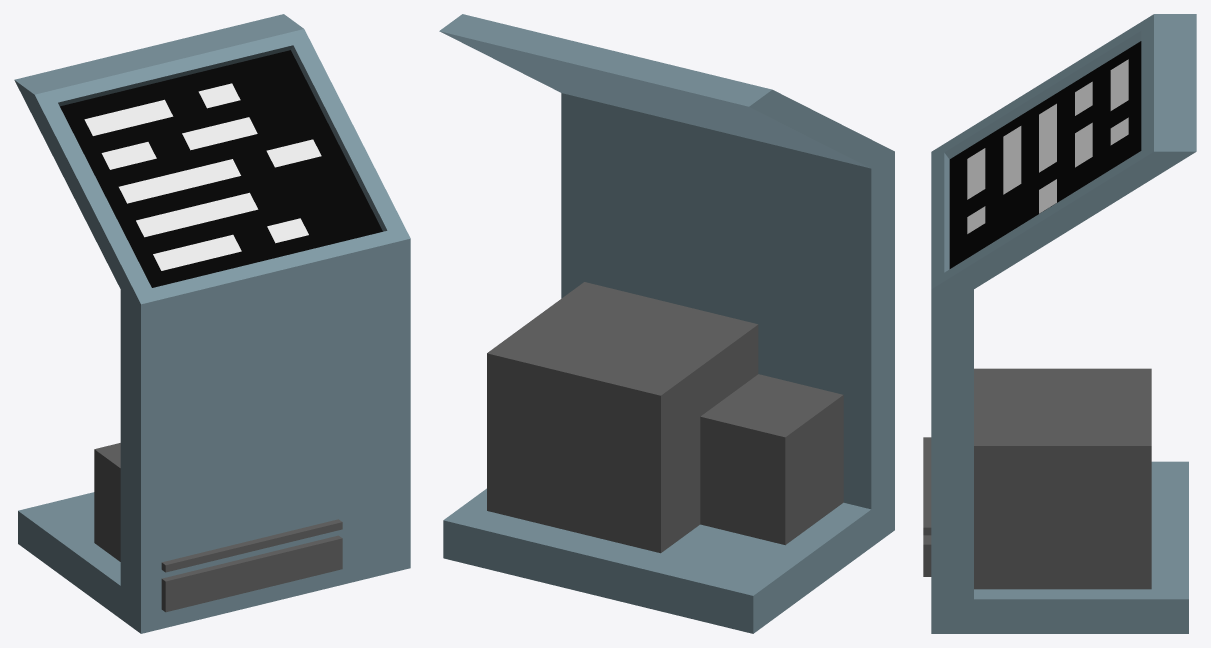
File: tutorial_computer.fbx
3 renders of one model, left to right at view 1: azimuth 30°, elevation 25°; view 2: azimuth 150°, elevation 25°; view 3: azimuth 270°, elevation 25°, orthographic. The views are drawn at different scales.
Parts seen in each view (by area): view 1: Cube, Cube.001, Cube.004, Cube.003, Cube.005; view 2: Cube, Cube.002, Cube.003; view 3: Cube, Cube.002, Cube.001, Cube.005.
Boxes of the visible parts, x1,y1,x2,y2 form: Cube: (14,14,410,633); Cube.001: (60,50,382,287); Cube.004: (161,535,342,612); Cube.003: (94,443,120,561); Cube.005: (161,519,342,572); Cube: (439,14,894,633); Cube.002: (487,282,758,553); Cube.003: (700,374,843,545); Cube: (931,14,1196,633); Cube.002: (974,368,1151,589); Cube.001: (949,41,1141,268); Cube.005: (923,437,931,535).
Size of the model in its own units: 356 by 582 by 299.
